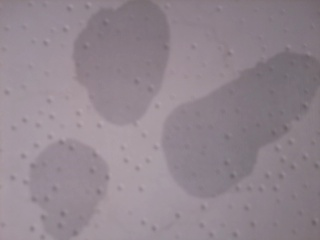Water_detected: (170, 84, 259, 180), (77, 20, 157, 100), (46, 152, 100, 213)
